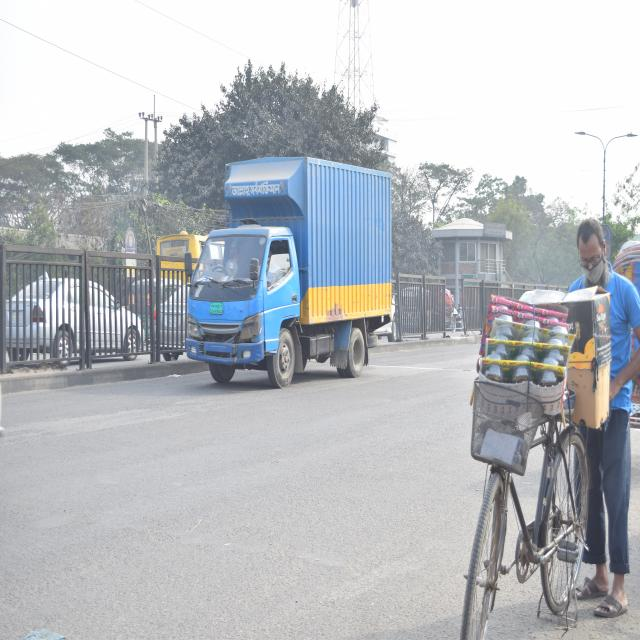car: (8, 267, 140, 373)
pickup-van: (183, 156, 396, 397)
